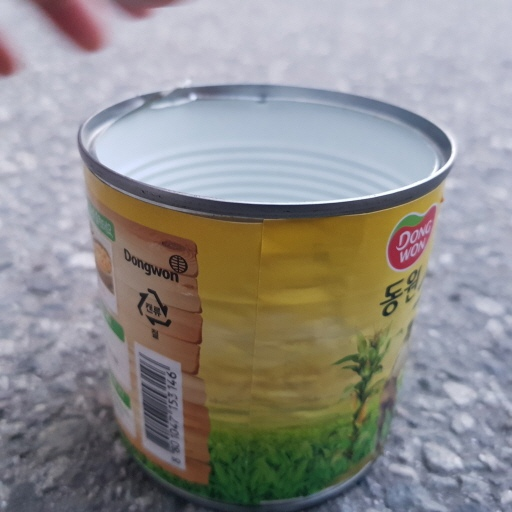Metal_1: (72, 76, 458, 508)
